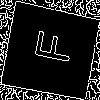F: (25, 26, 74, 66)
